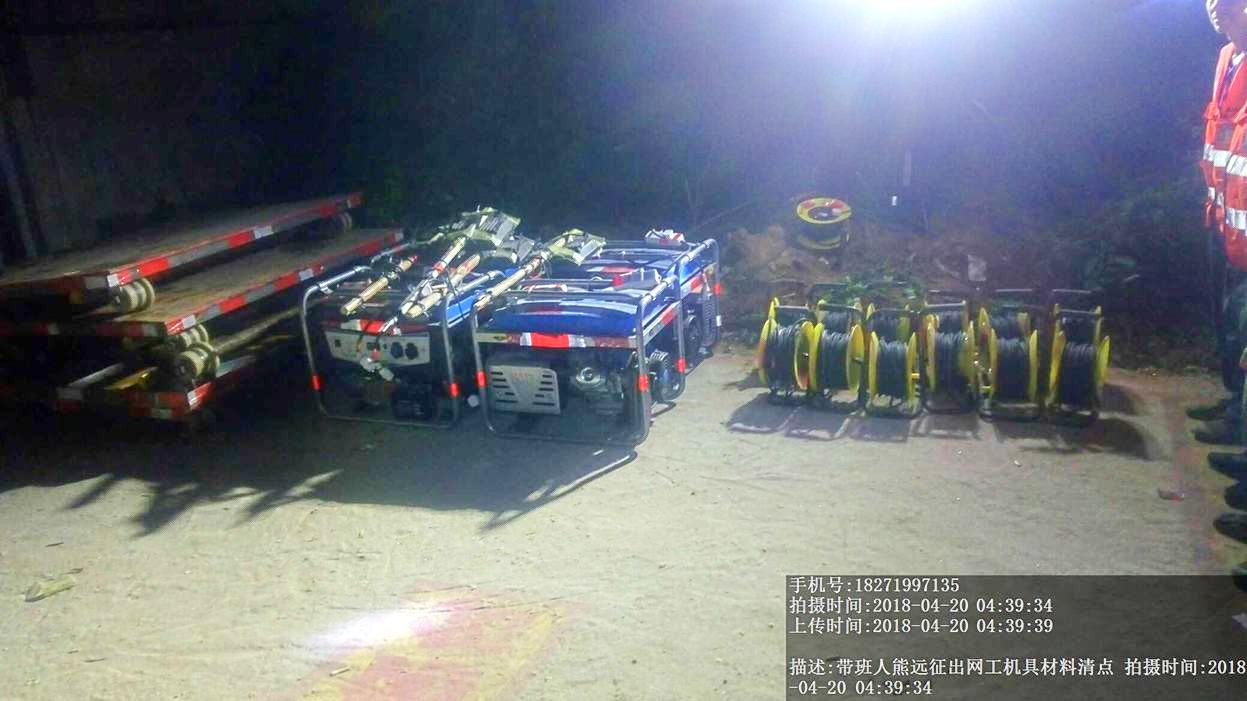DJ: (463, 275, 694, 441), (302, 280, 461, 432)
